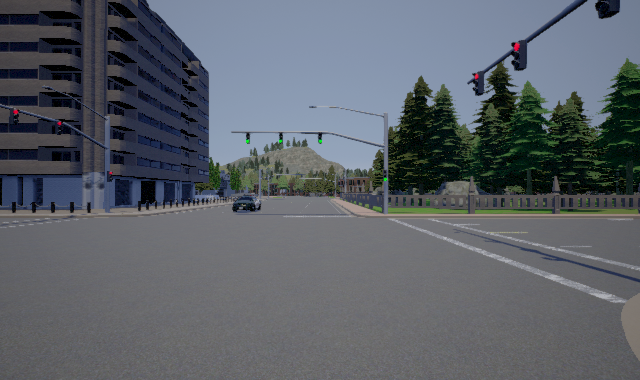traffic_light: (511, 40, 527, 71), (595, 1, 620, 19), (472, 71, 484, 96), (9, 108, 20, 125), (55, 121, 63, 135), (107, 171, 113, 182), (318, 132, 322, 144), (279, 132, 283, 144), (246, 132, 250, 144), (383, 170, 387, 181)
vehicle: (232, 195, 262, 212)
